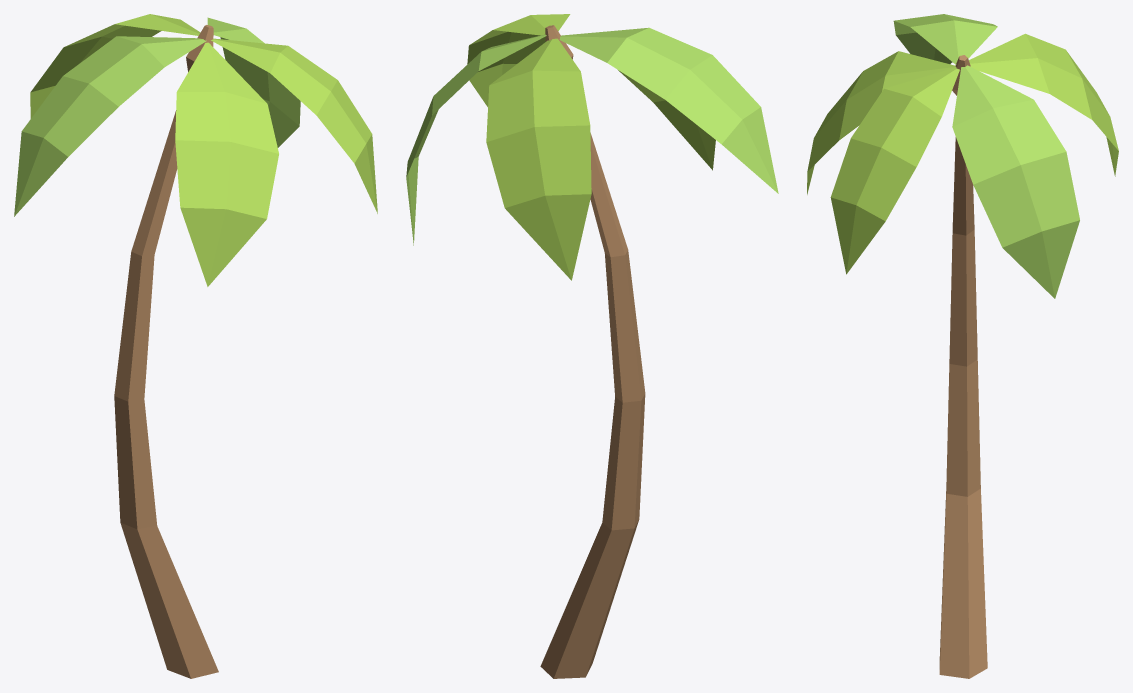
The model's file is Palm_Tree_OneSided_s_03.fbx.
3 renders of one model, left to right at view 1: azimuth 30°, elevation 25°; view 2: azimuth 150°, elevation 25°; view 3: azimuth 270°, elevation 25°, orthographic. The views are drawn at different scales.
Parts seen in each view (by area): view 1: Palm_Tree_OneSided_s_03; view 2: Palm_Tree_OneSided_s_03; view 3: Palm_Tree_OneSided_s_03.
Boxes of the visible parts, bbox=[...] form: Palm_Tree_OneSided_s_03: bbox=[14, 14, 377, 678]; Palm_Tree_OneSided_s_03: bbox=[406, 14, 778, 678]; Palm_Tree_OneSided_s_03: bbox=[807, 14, 1118, 678].
Size of the model in its own units: 236 by 431 by 196.
